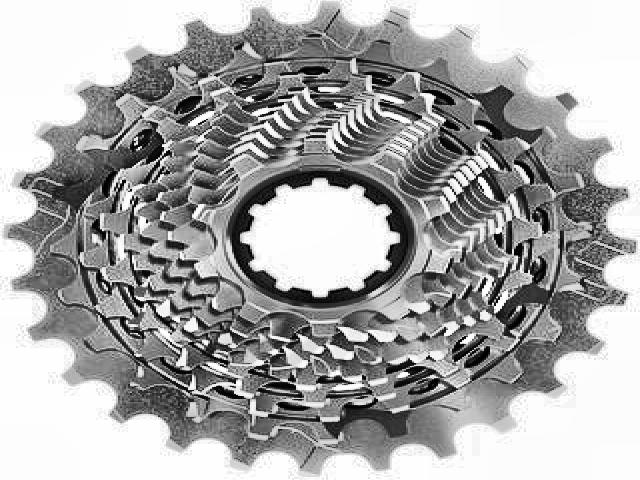cassette: (13, 5, 638, 471)
